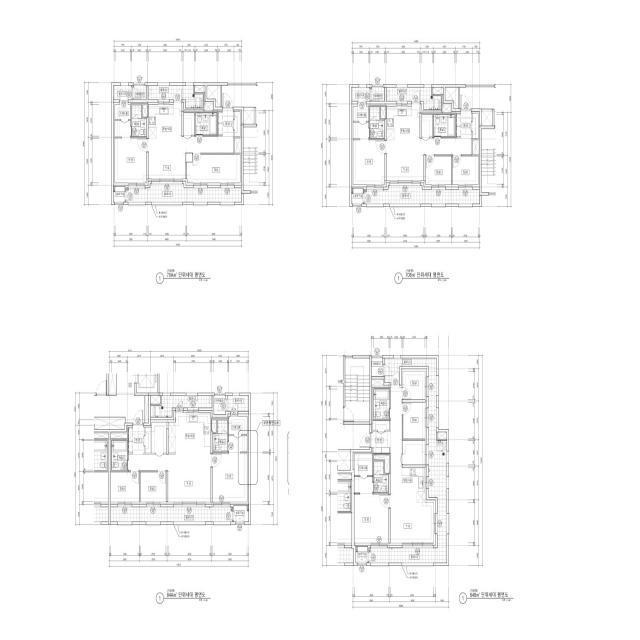space_balconi: (369, 358, 447, 563), (364, 186, 480, 204), (126, 184, 242, 202), (111, 507, 233, 522), (151, 396, 212, 417), (386, 87, 441, 110), (148, 86, 203, 108), (227, 396, 249, 411), (113, 86, 131, 100), (352, 87, 370, 101)
space_bedroom: (354, 494, 388, 543), (213, 453, 247, 502), (187, 155, 240, 183), (353, 140, 385, 184), (115, 138, 146, 183), (111, 472, 139, 502), (403, 403, 425, 439), (140, 472, 166, 502), (426, 156, 451, 185), (453, 156, 478, 185), (403, 371, 425, 400)
space_dressroom: (354, 454, 373, 493), (229, 416, 247, 452), (353, 104, 369, 139), (115, 102, 130, 137)
space_front: (218, 109, 240, 137), (128, 425, 144, 454), (456, 111, 472, 138), (371, 432, 390, 454)
space_kitchen: (168, 413, 211, 453), (148, 102, 182, 137), (387, 104, 420, 138), (402, 468, 425, 503)
space_living_room: (390, 387, 434, 543), (128, 454, 211, 502), (387, 138, 472, 181), (148, 137, 233, 179)
space_other: (403, 440, 425, 465), (152, 422, 166, 453), (445, 87, 458, 109), (207, 86, 220, 107), (374, 455, 389, 473), (422, 114, 433, 137), (214, 396, 226, 415), (184, 113, 194, 135), (372, 358, 383, 376), (481, 109, 492, 126), (133, 86, 146, 100), (371, 87, 384, 101), (243, 108, 254, 124), (373, 420, 389, 430), (145, 428, 151, 453), (473, 113, 478, 138), (145, 396, 149, 423), (111, 433, 127, 439), (473, 140, 478, 155), (235, 138, 240, 153), (204, 103, 213, 111), (372, 379, 384, 385), (151, 396, 160, 404), (442, 105, 451, 113), (433, 87, 443, 94), (195, 86, 205, 93), (437, 432, 447, 439), (212, 420, 217, 432), (381, 107, 385, 119), (143, 105, 147, 117)
space_outdoor_room: (234, 506, 249, 522), (356, 547, 368, 563), (113, 187, 125, 202), (352, 188, 363, 204)
space_staircase: (345, 358, 370, 422)
space_toilet: (195, 113, 217, 135), (434, 114, 455, 137), (213, 420, 228, 452), (112, 440, 127, 471), (374, 389, 389, 419), (374, 461, 388, 493), (132, 105, 146, 137), (370, 107, 384, 138)
